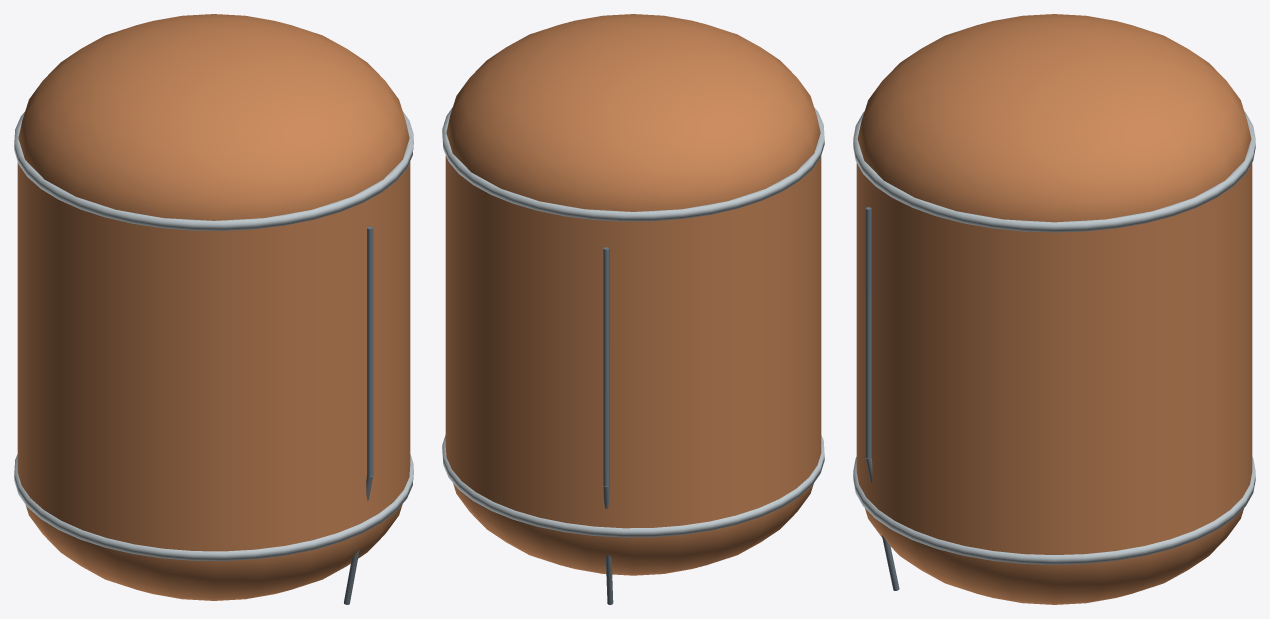
File: falcon9_stage_2_rp1_vessel.glb
3 renders of one model, left to right at view 1: azimuth 30°, elevation 25°; view 2: azimuth 150°, elevation 25°; view 3: azimuth 270°, elevation 25°, orthographic. The views are drawn at different scales.
Parts seen in each view (by area): view 1: falcon9_stage_2_rp1_vessel.mesh_Cutaway_propellant, falcon9_stage_2_rp1_vessel.mesh_Satin_aluminum, falcon9_stage_2_rp1_vessel.mesh_Machined_steel; view 2: falcon9_stage_2_rp1_vessel.mesh_Cutaway_propellant, falcon9_stage_2_rp1_vessel.mesh_Satin_aluminum, falcon9_stage_2_rp1_vessel.mesh_Machined_steel; view 3: falcon9_stage_2_rp1_vessel.mesh_Cutaway_propellant, falcon9_stage_2_rp1_vessel.mesh_Satin_aluminum, falcon9_stage_2_rp1_vessel.mesh_Machined_steel.
Boxes of the visible parts, <box> form: falcon9_stage_2_rp1_vessel.mesh_Cutaway_propellant: <box>17,14,410,600</box>; falcon9_stage_2_rp1_vessel.mesh_Satin_aluminum: <box>14,111,413,560</box>; falcon9_stage_2_rp1_vessel.mesh_Machined_steel: <box>344,226,373,604</box>; falcon9_stage_2_rp1_vessel.mesh_Cutaway_propellant: <box>445,14,821,575</box>; falcon9_stage_2_rp1_vessel.mesh_Satin_aluminum: <box>442,107,824,537</box>; falcon9_stage_2_rp1_vessel.mesh_Machined_steel: <box>603,247,613,604</box>; falcon9_stage_2_rp1_vessel.mesh_Cutaway_propellant: <box>856,14,1252,604</box>; falcon9_stage_2_rp1_vessel.mesh_Satin_aluminum: <box>853,111,1255,564</box>; falcon9_stage_2_rp1_vessel.mesh_Machined_steel: <box>865,207,899,590</box>.
Bounding box in the file's own units: 3.48 × 5.05 × 3.48.
